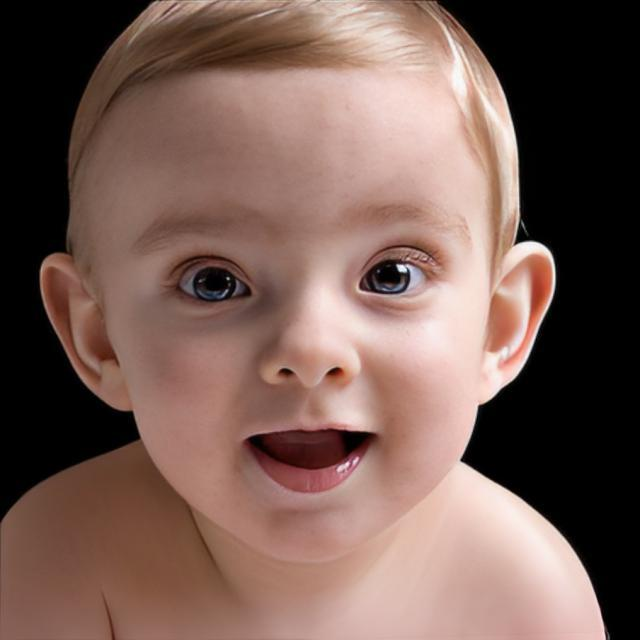surprise: (92, 59, 500, 563)
